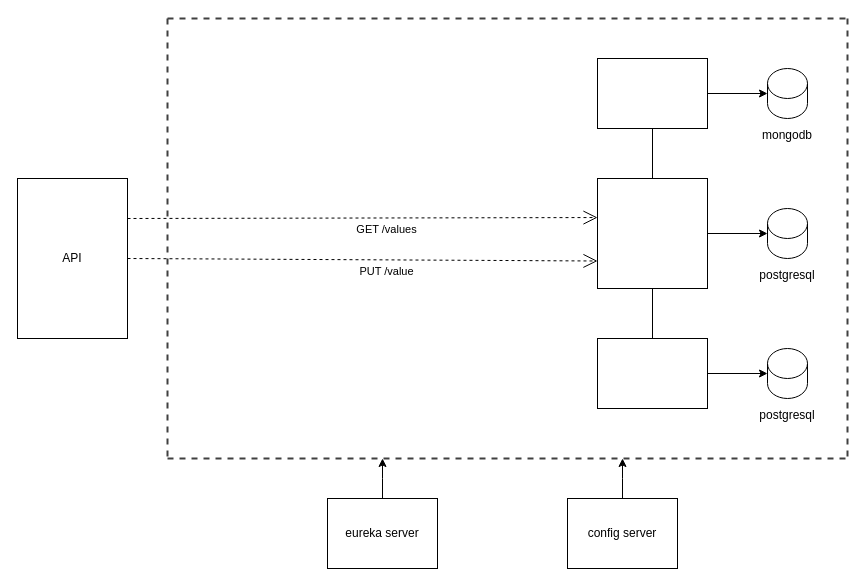
Some shapes in this 867 by 586 pixel diagram are drawn without their labels. The shapes that lost their labels are listed below. From the top down, each one's centre as x and y in pixels, then its label:
the point at 652,93: user
the point at 652,233: glycemia_value
the point at 652,373: calculation
